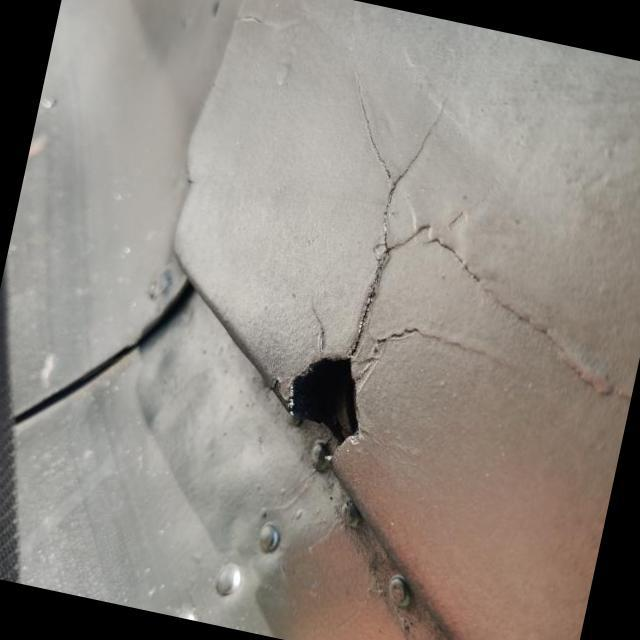Rupture: (200, 54, 519, 512)
